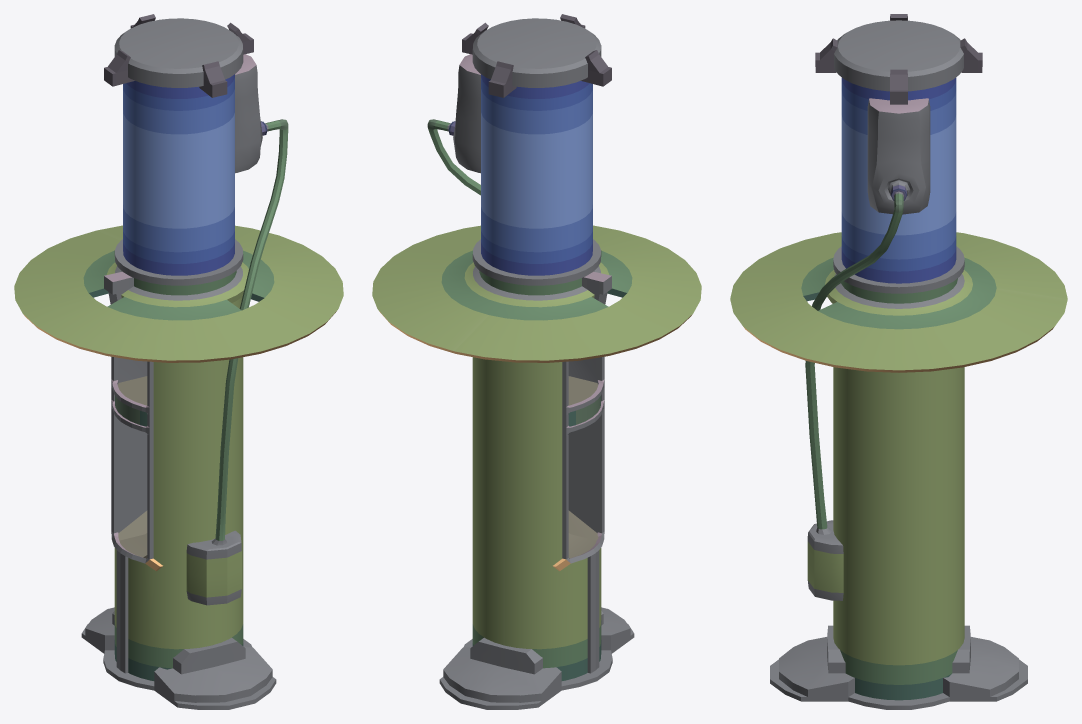
The model's file is pump.fbx.
The picture shows the model from 3 angles, left to right: view 1: azimuth 30°, elevation 25°; view 2: azimuth 150°, elevation 25°; view 3: azimuth 270°, elevation 25°; orthographic projection. The views are drawn at different scales.
Visible parts, largest first — view 1: Cylinder, Cube, Cylinder.001; view 2: Cylinder, Cylinder.001, Cube; view 3: Cylinder, Cube.
Part boxes in pixels (x1,y1,x2,y2): Cylinder: [14, 14, 343, 709]; Cube: [186, 54, 288, 605]; Cylinder.001: [104, 271, 162, 673]; Cylinder: [372, 14, 701, 709]; Cylinder.001: [553, 271, 611, 673]; Cube: [427, 54, 480, 195]; Cylinder: [730, 14, 1067, 709]; Cube: [805, 98, 930, 600].
Bounding box in the file's own units: 514 × 1066 × 514.
